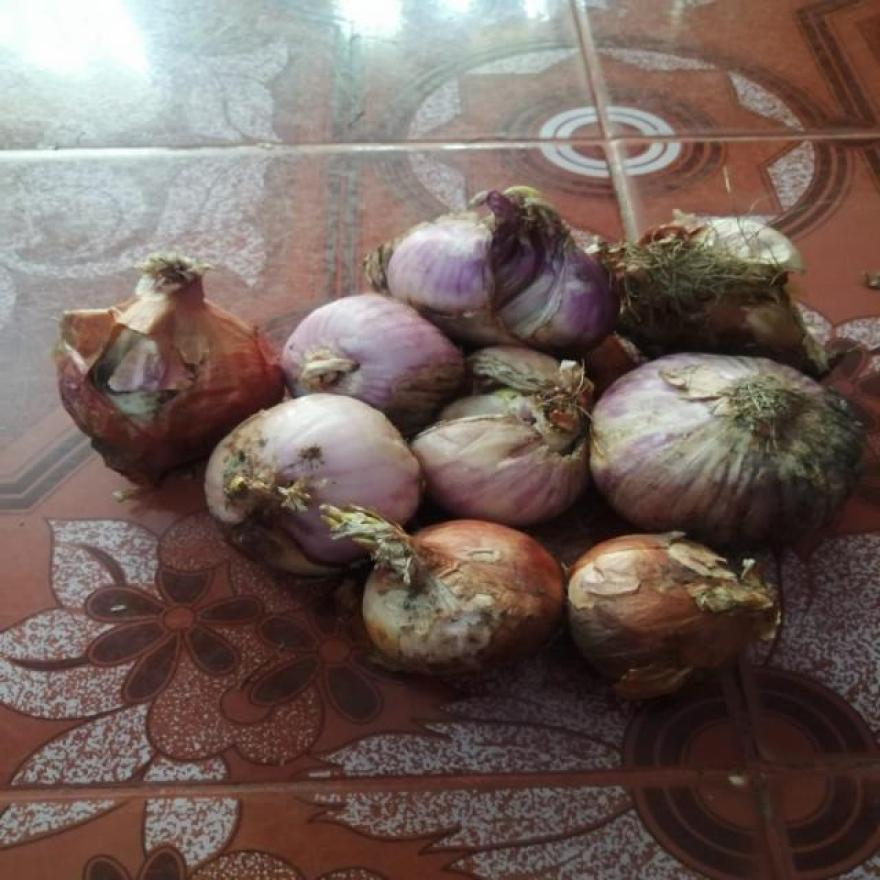Rotten: (762, 411, 864, 494), (201, 504, 308, 578), (380, 327, 448, 396), (504, 220, 551, 316), (471, 381, 518, 432)
